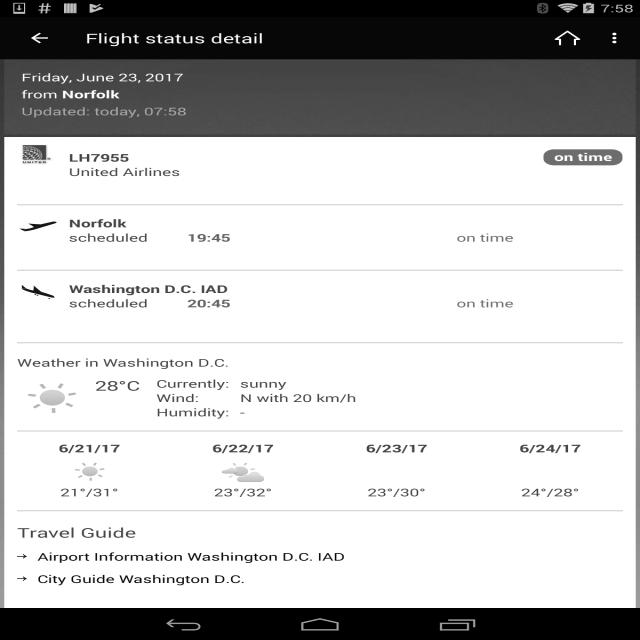ImageButton: (9, 17, 68, 59)
ImageView: (17, 376, 86, 420), (68, 458, 111, 485), (529, 458, 572, 485), (10, 144, 64, 165), (222, 458, 264, 485), (376, 458, 418, 485), (10, 219, 64, 234), (10, 285, 64, 300), (598, 27, 632, 49)
TextView: (21, 104, 602, 118), (17, 541, 345, 564), (17, 564, 245, 586), (234, 230, 456, 245), (85, 29, 264, 47), (17, 355, 229, 370), (234, 296, 456, 310), (457, 230, 610, 245), (21, 70, 184, 84), (69, 282, 228, 296), (457, 296, 610, 310), (17, 524, 136, 542), (538, 22, 597, 54), (240, 376, 356, 391), (68, 230, 178, 245), (240, 391, 356, 405), (240, 405, 356, 419), (69, 165, 180, 179), (68, 296, 178, 310), (543, 149, 623, 166), (156, 376, 230, 391), (156, 391, 230, 405), (156, 405, 230, 419), (69, 150, 129, 165), (58, 87, 120, 101), (69, 216, 127, 230), (60, 485, 118, 499), (214, 485, 272, 499), (368, 485, 426, 499), (521, 485, 579, 499), (95, 376, 140, 394), (58, 442, 120, 455), (212, 442, 274, 455), (366, 442, 428, 455), (520, 442, 582, 455), (187, 230, 235, 245), (187, 296, 235, 310), (21, 87, 58, 101)
